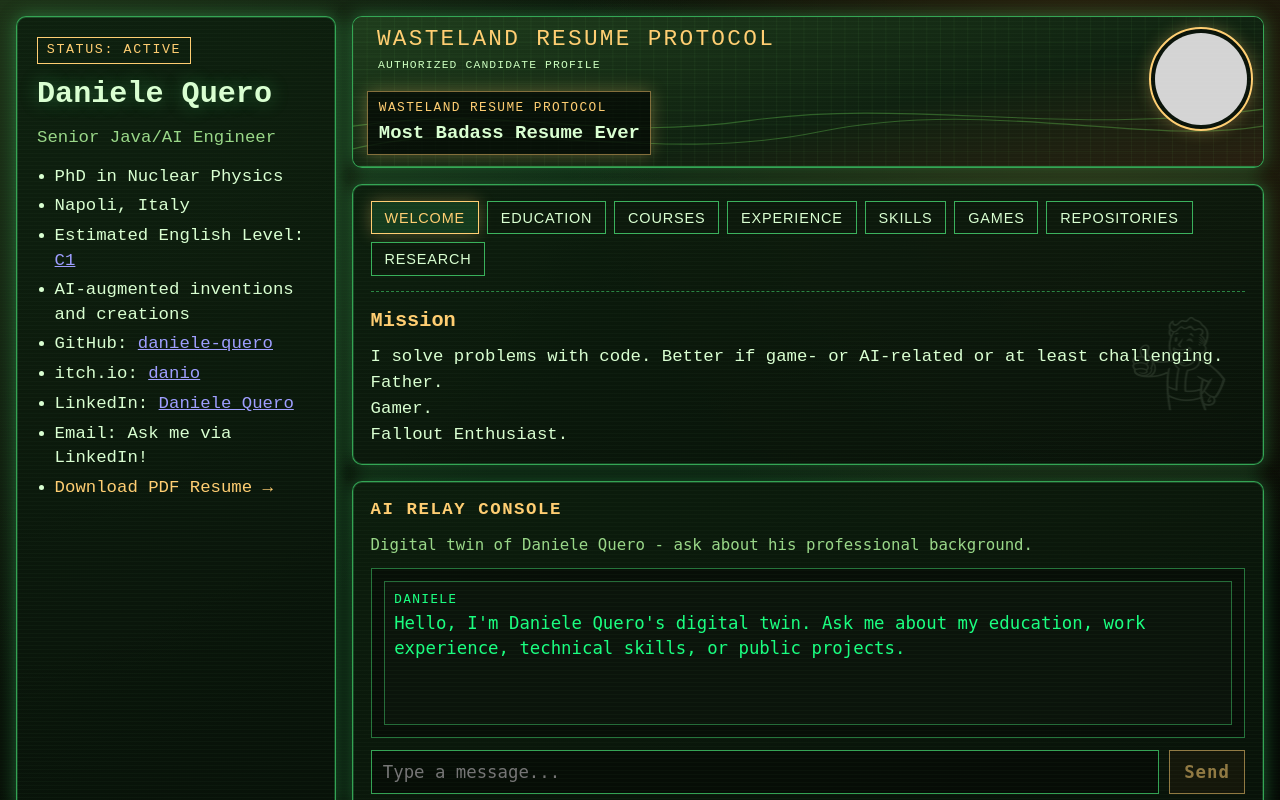
App - chat visibility by active tab › preserves chat draft when returning to Welcome
The width and height of the screenshot is (1280, 800).
Type "Persistent draft" into the field labelled "message" at x=765, y=772, box [371,750,1159,794]
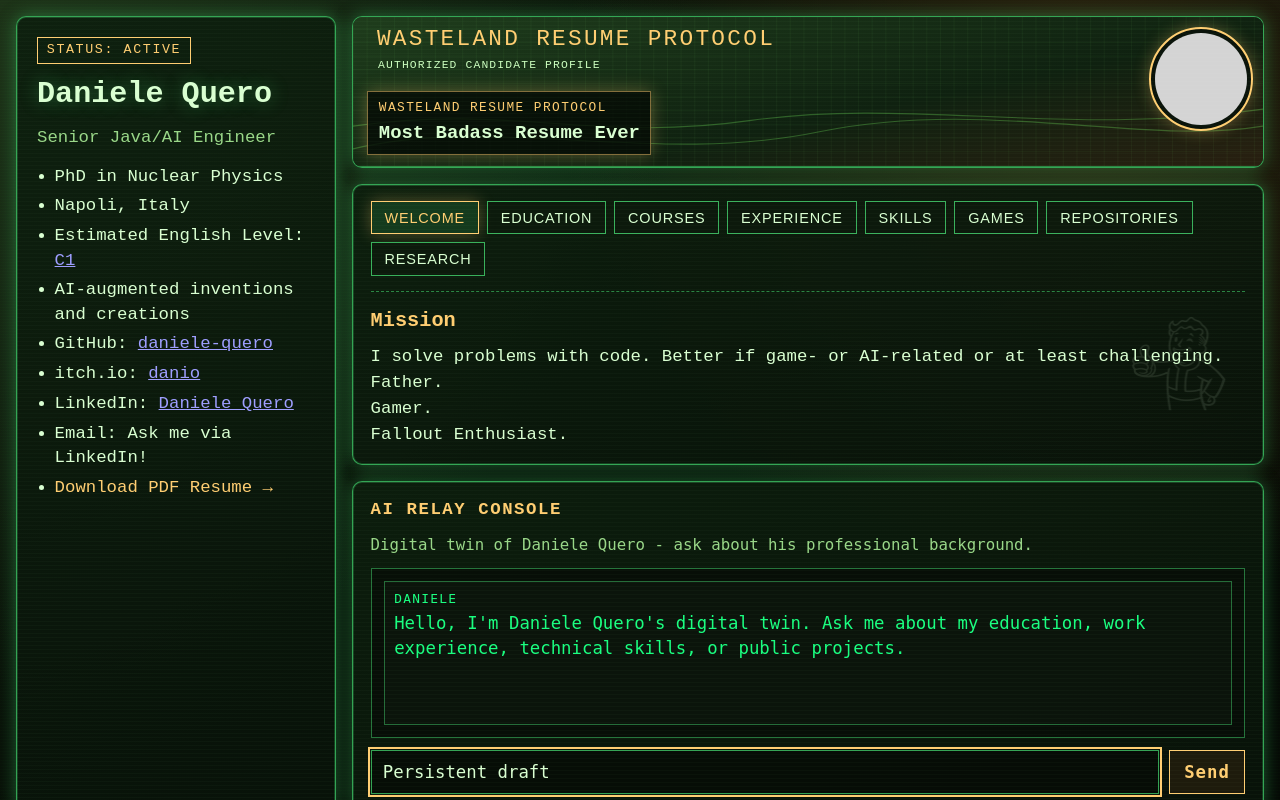
Click the tab "Education" at x=547, y=218, box [487,201,606,234]
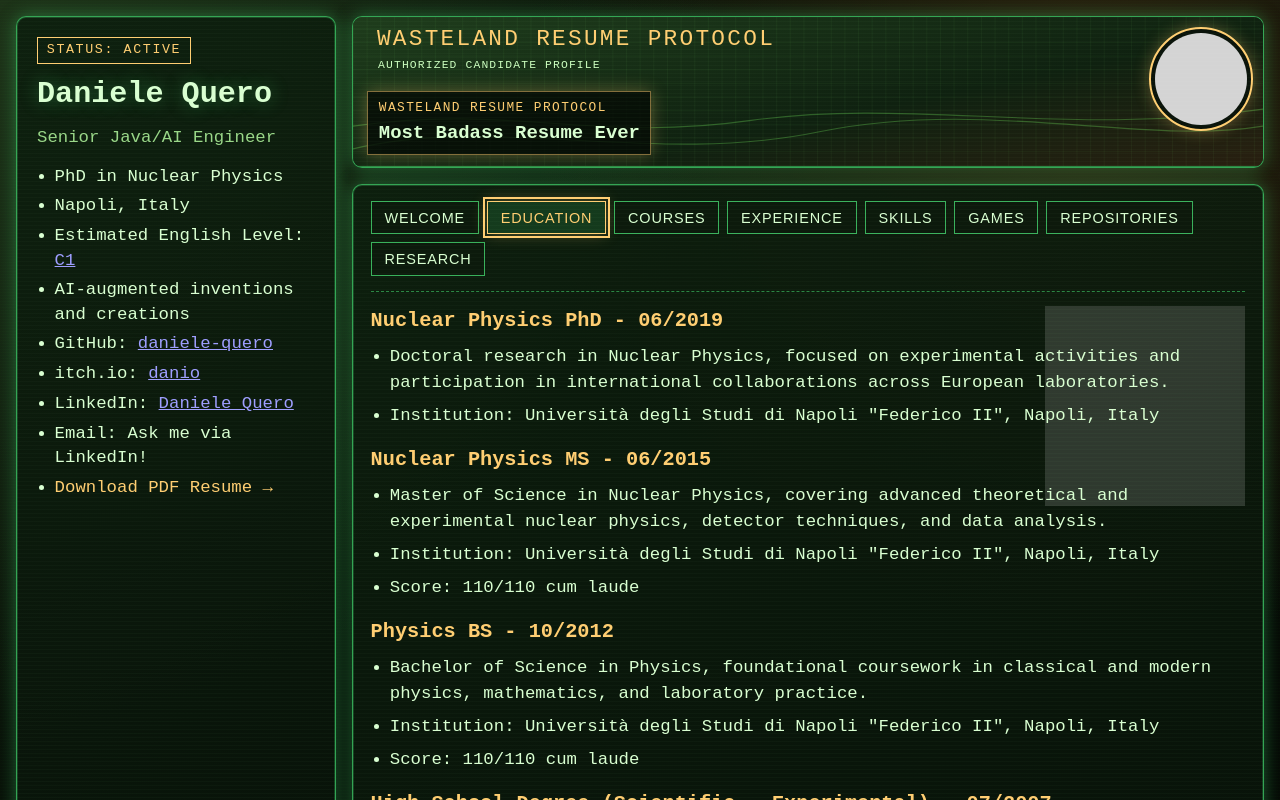
Click the tab "Welcome" at x=425, y=218, box [371,201,479,234]
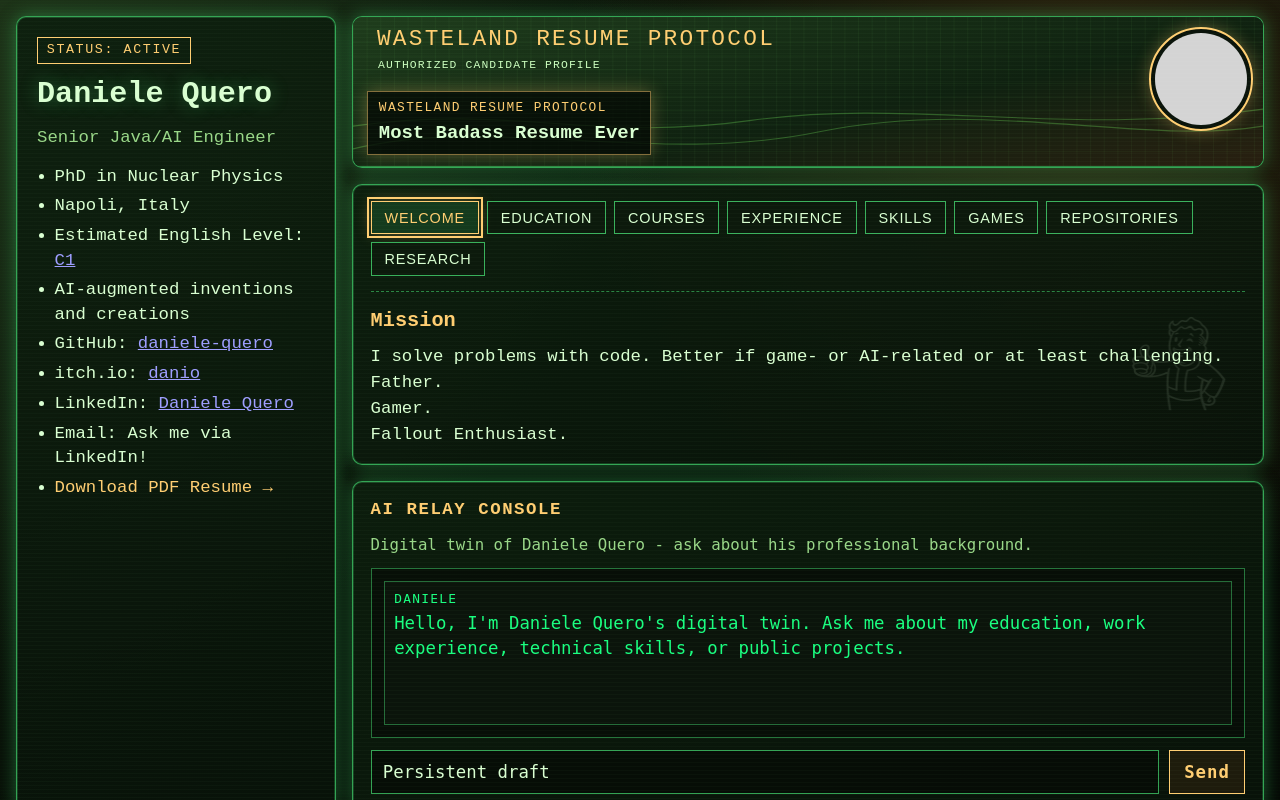
Expected: the field named "message" holds "Persistent draft", [371,750,1159,794]
Expected: the button "Send" is enabled, [1169,750,1245,794]
